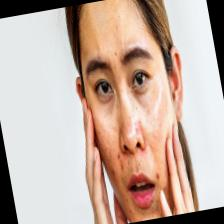Oily: (82, 0, 173, 222)
